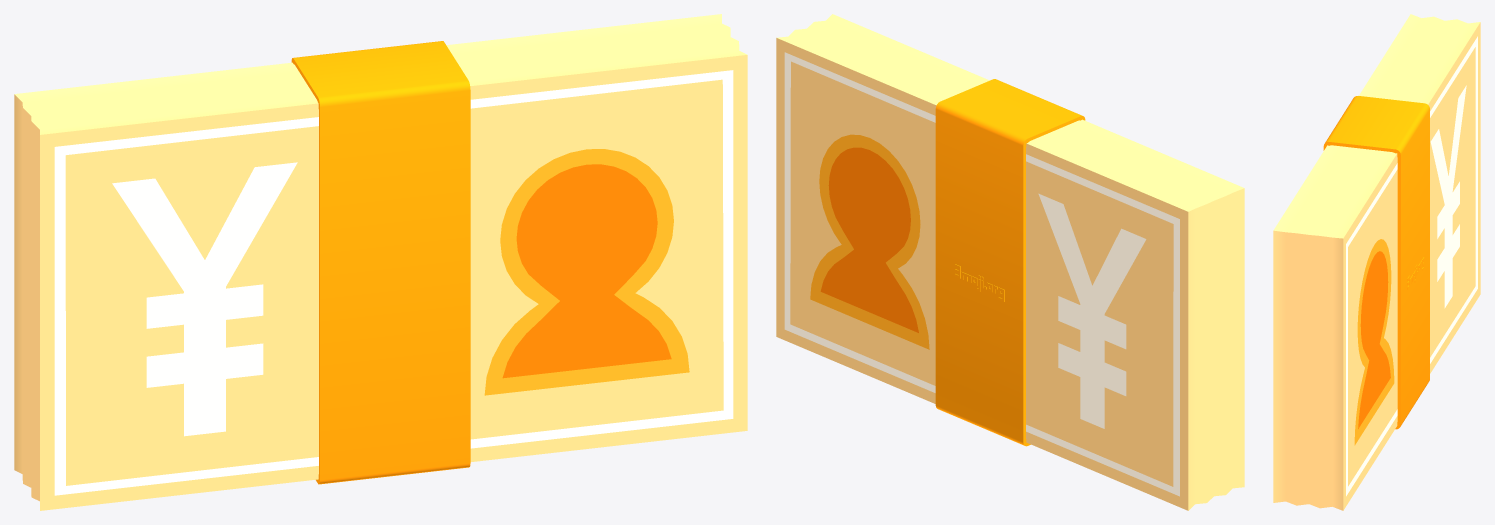
The model's file is yen_banknote.gltf.
The picture shows the model from 3 angles, left to right: view 1: azimuth 30°, elevation 25°; view 2: azimuth 150°, elevation 25°; view 3: azimuth 270°, elevation 25°; orthographic projection. The views are drawn at different scales.
Parts seen in each view (by area): view 1: Cube.955; view 2: Cube.955; view 3: Cube.955.
Part boxes in pixels (x1=…): Cube.955: x1=14, y1=14, x2=747, y2=510; Cube.955: x1=776, y1=14, x2=1244, y2=510; Cube.955: x1=1273, y1=14, x2=1480, y2=510.
Size of the model in its own units: 2.2 by 1.28 by 0.8586.
Materials: 1 (1 with a texture image).
